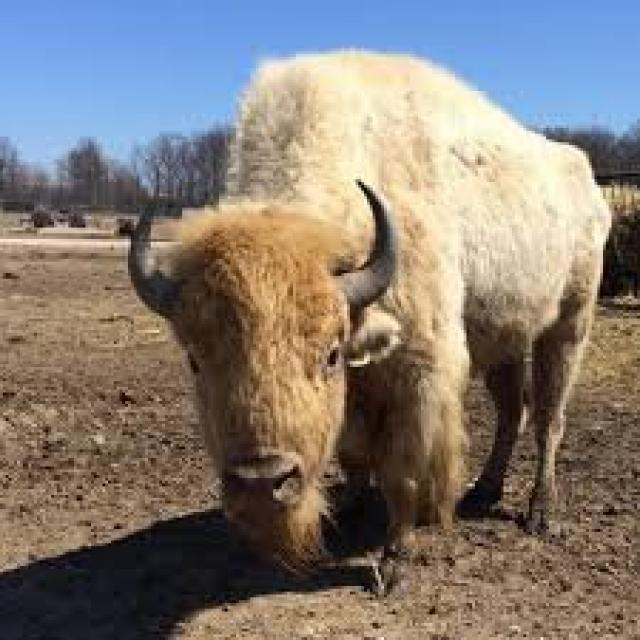Bison: (124, 35, 629, 595)
